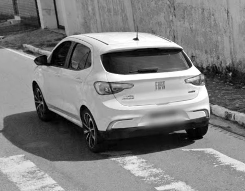car: (30, 31, 211, 149)
